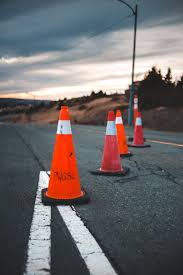cone: (41, 106, 90, 207), (98, 110, 126, 176), (111, 109, 130, 158), (131, 112, 148, 149)
